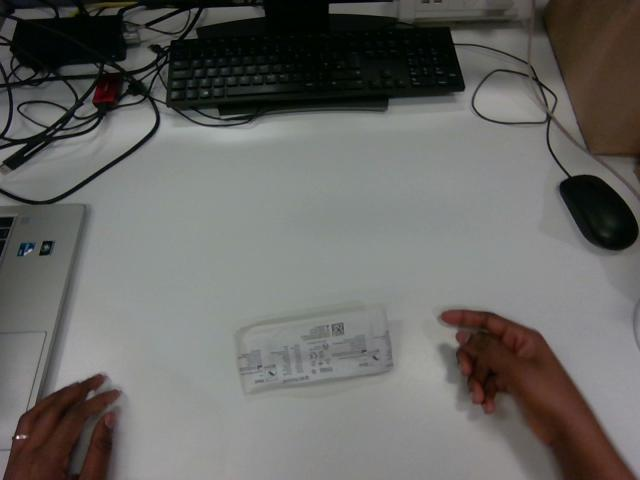syringe: (237, 308, 392, 392)
